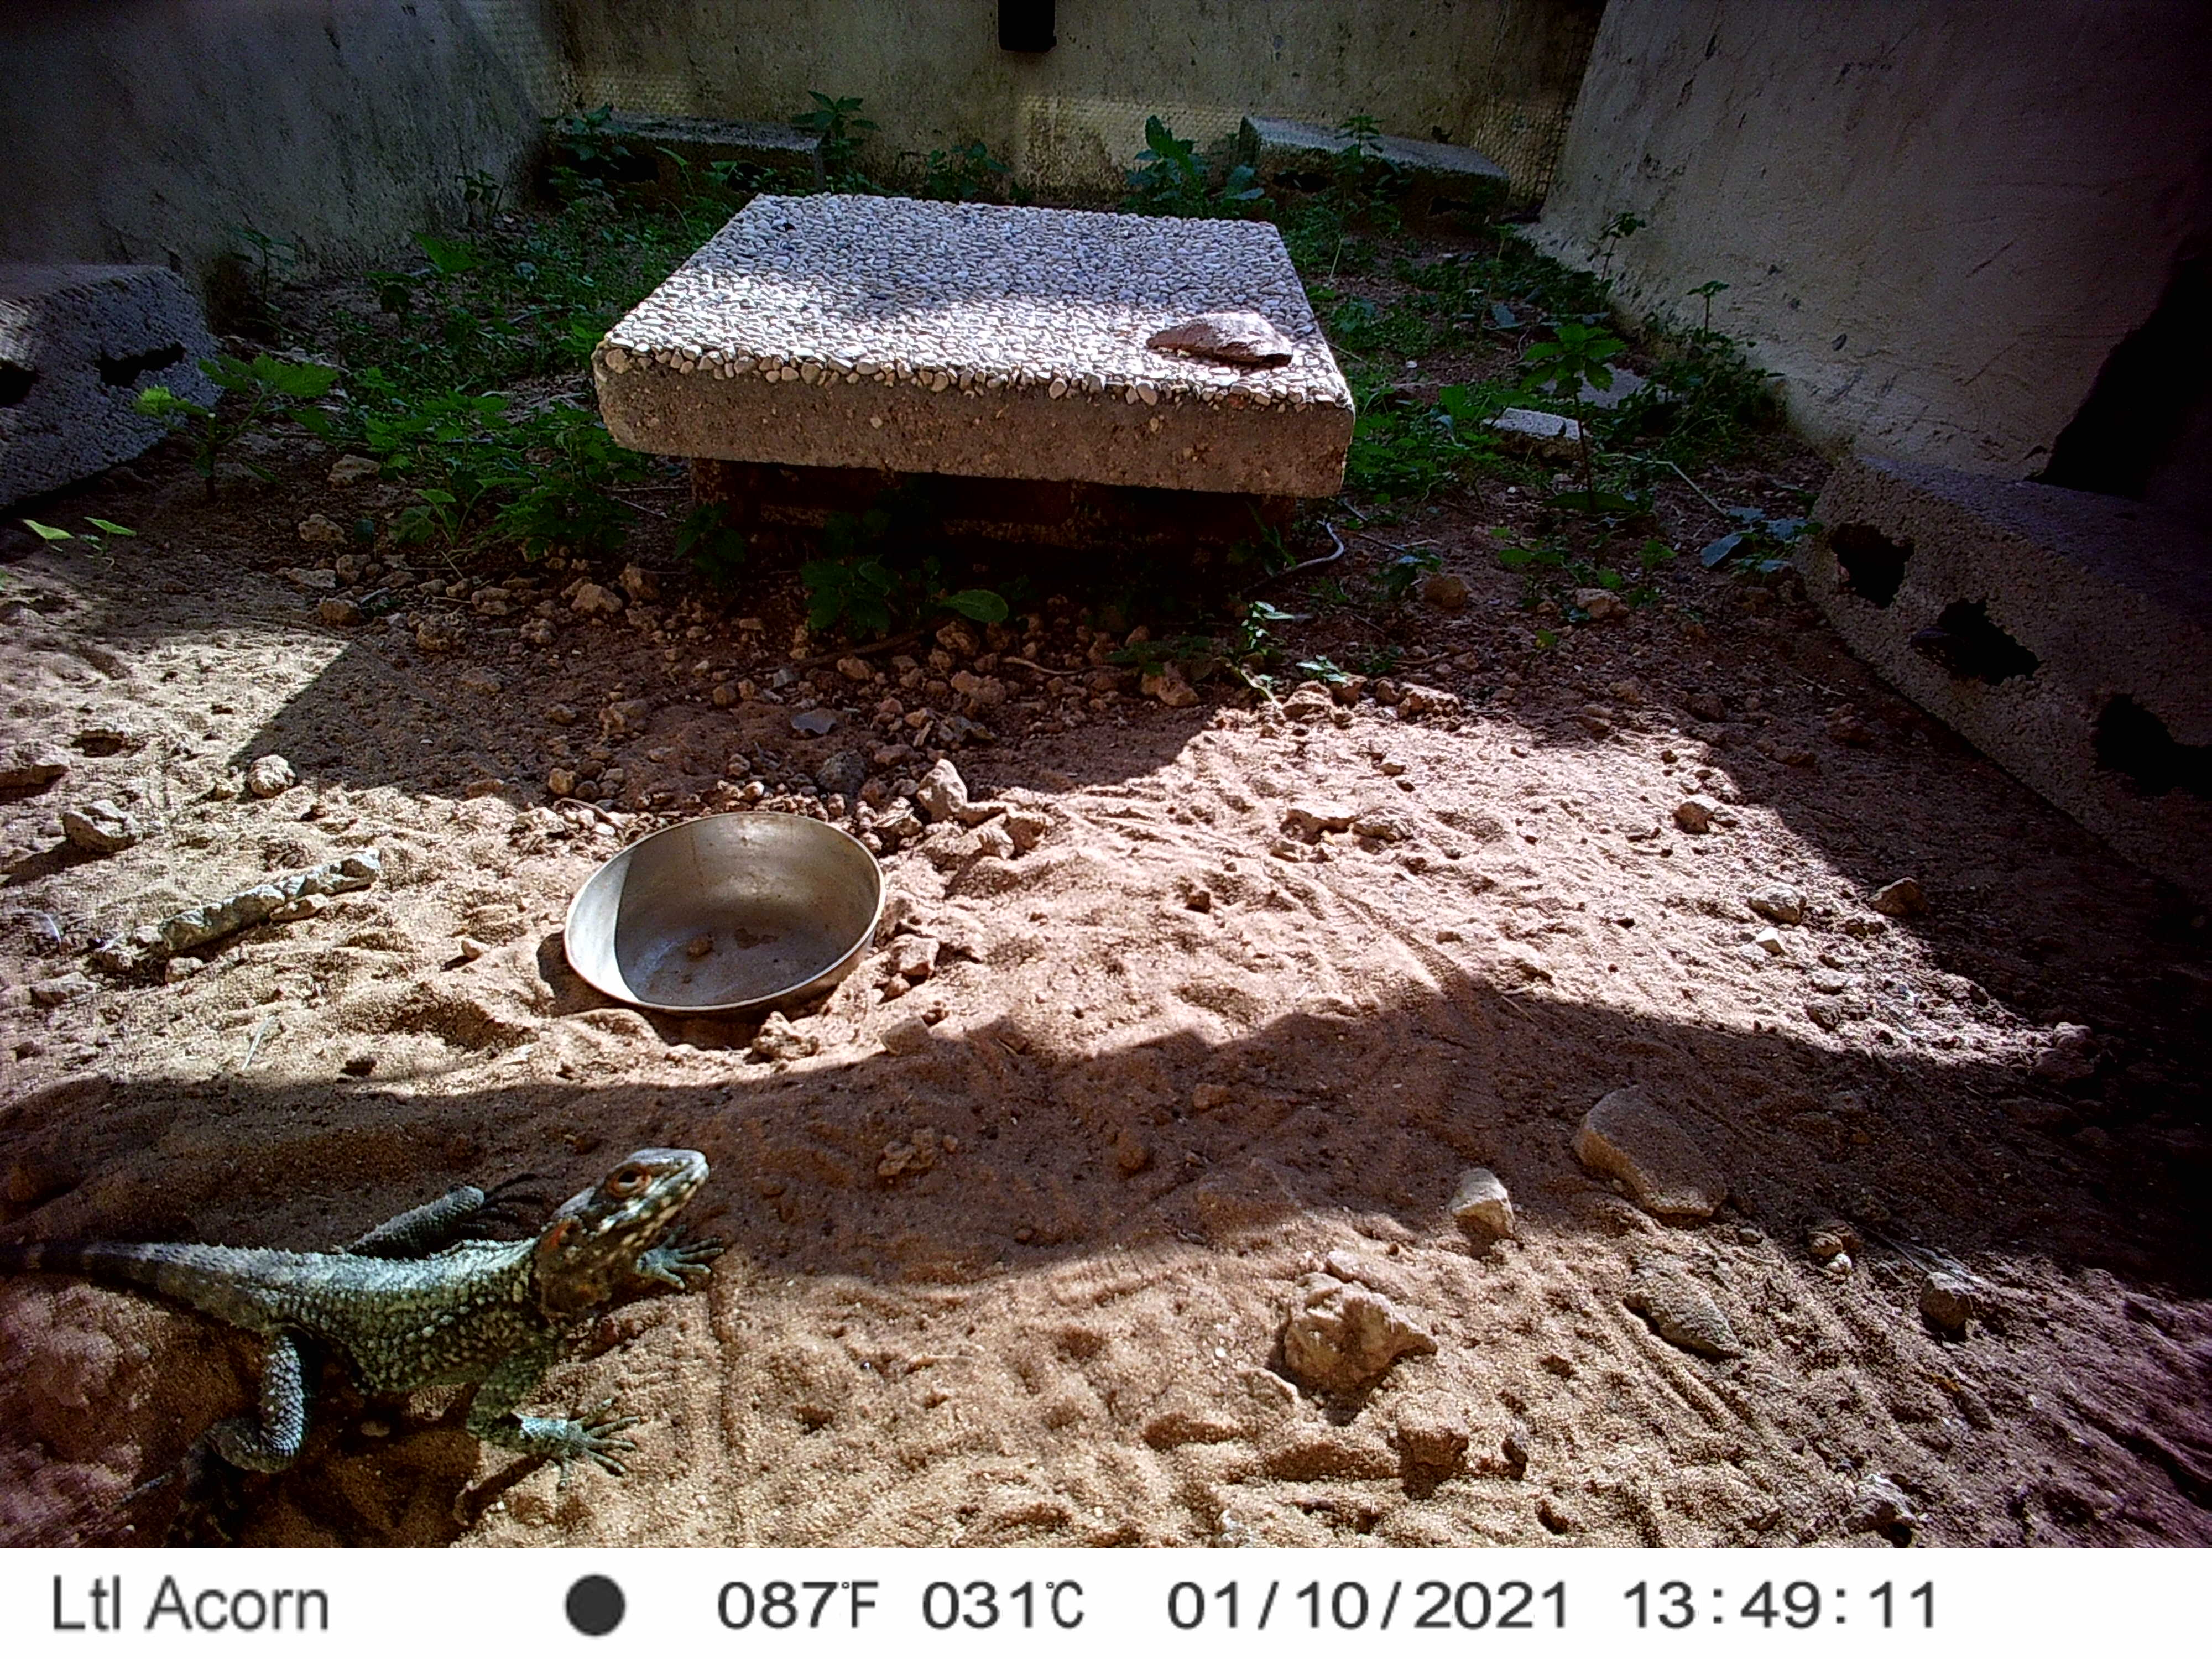lizard: (3, 1140, 738, 1539)
